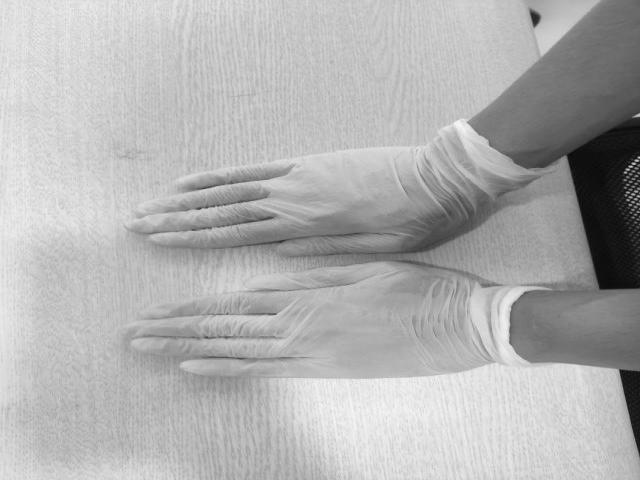gloved: (128, 261, 484, 381), (129, 145, 459, 253)
